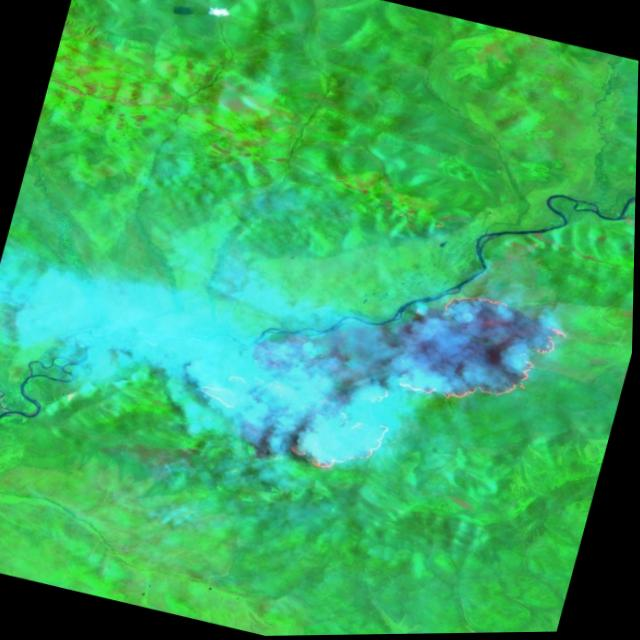fire: (282, 257, 583, 522)
